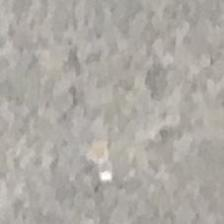Non_Crack: (19, 18, 205, 200)
